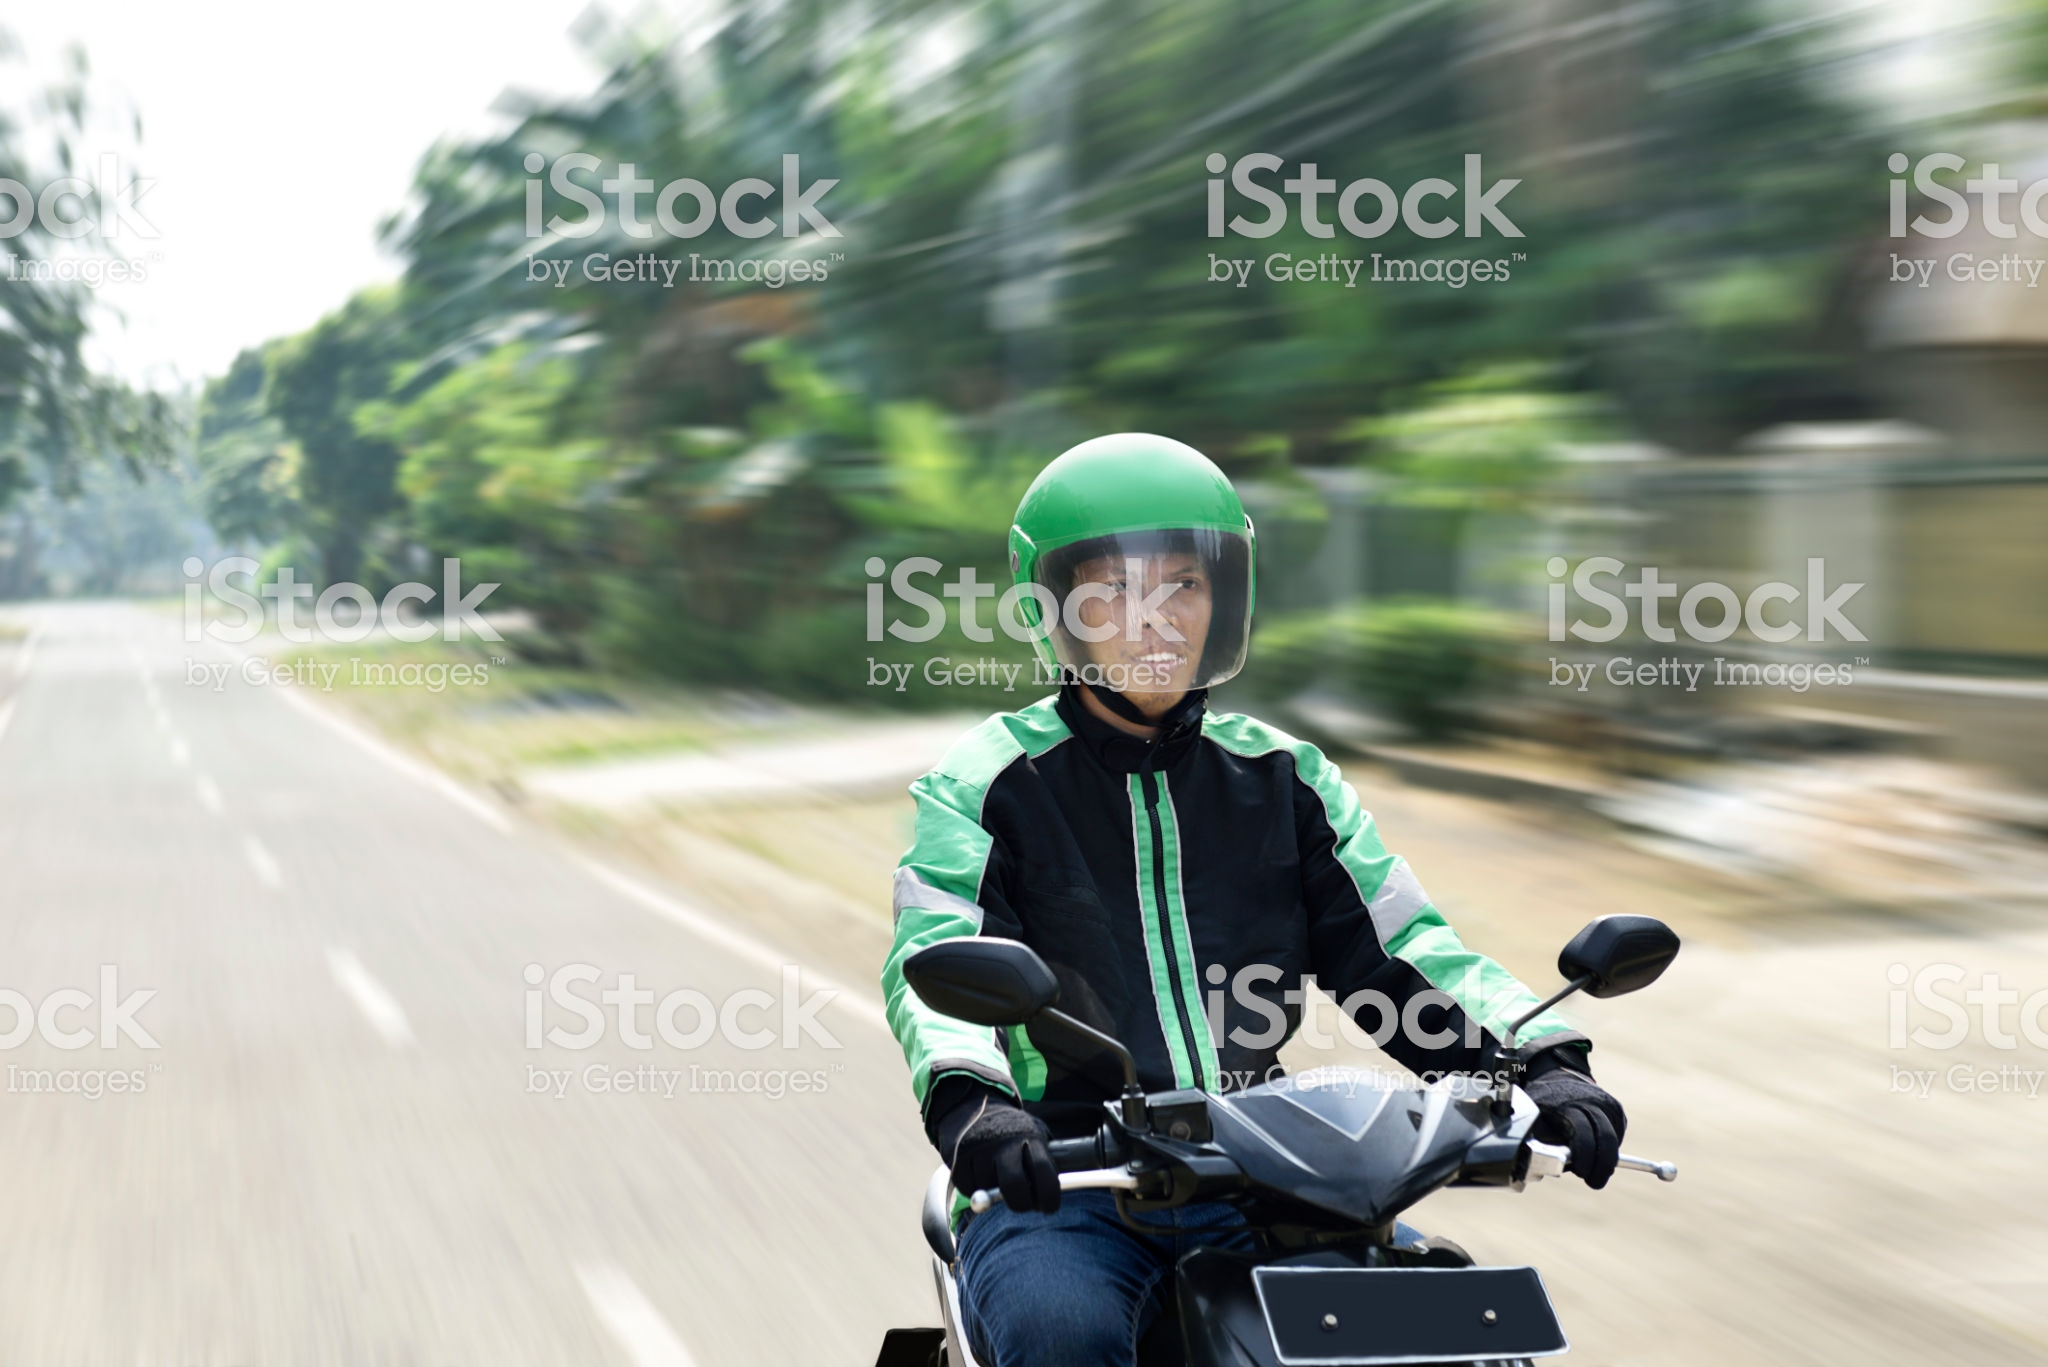helmet: (994, 432, 1273, 764)
